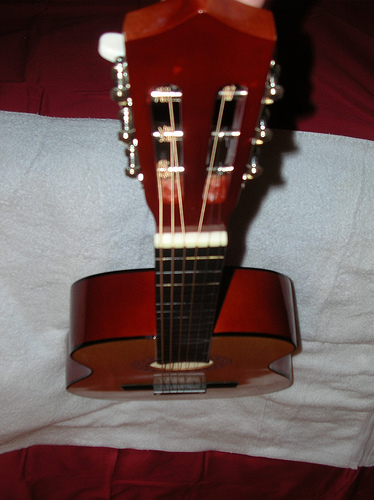guitar: (59, 1, 308, 405)
